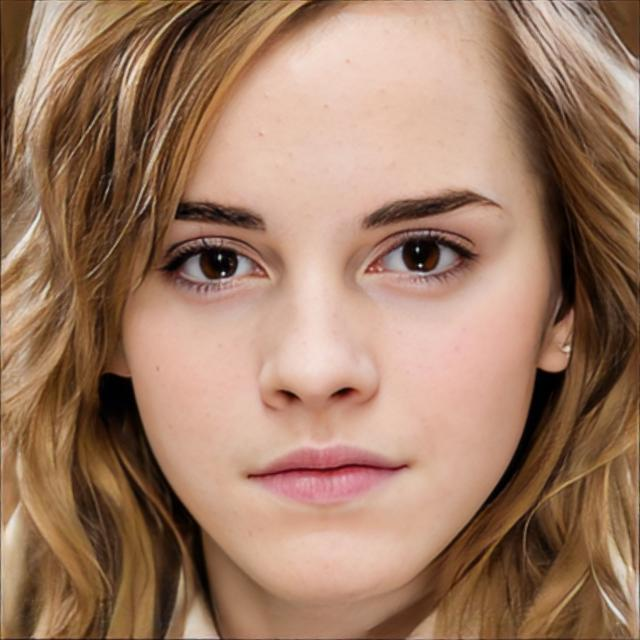neutral: (121, 0, 558, 606)
